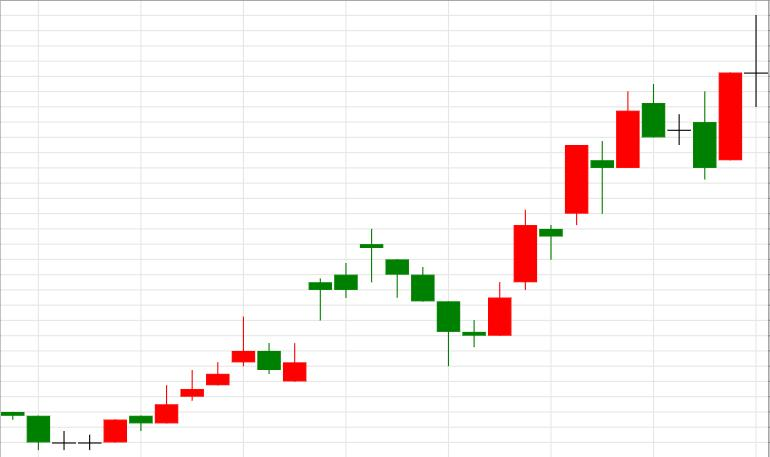morning_star_rise: (360, 229, 511, 366)
